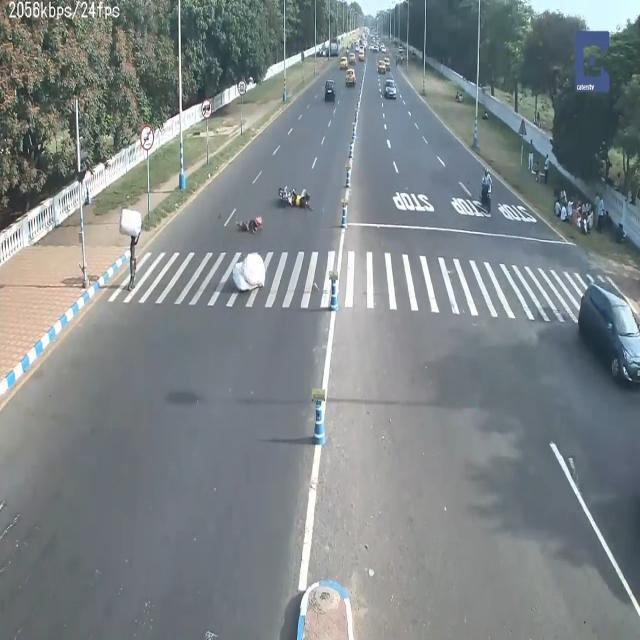accident: (271, 178, 315, 219), (236, 212, 263, 239)
